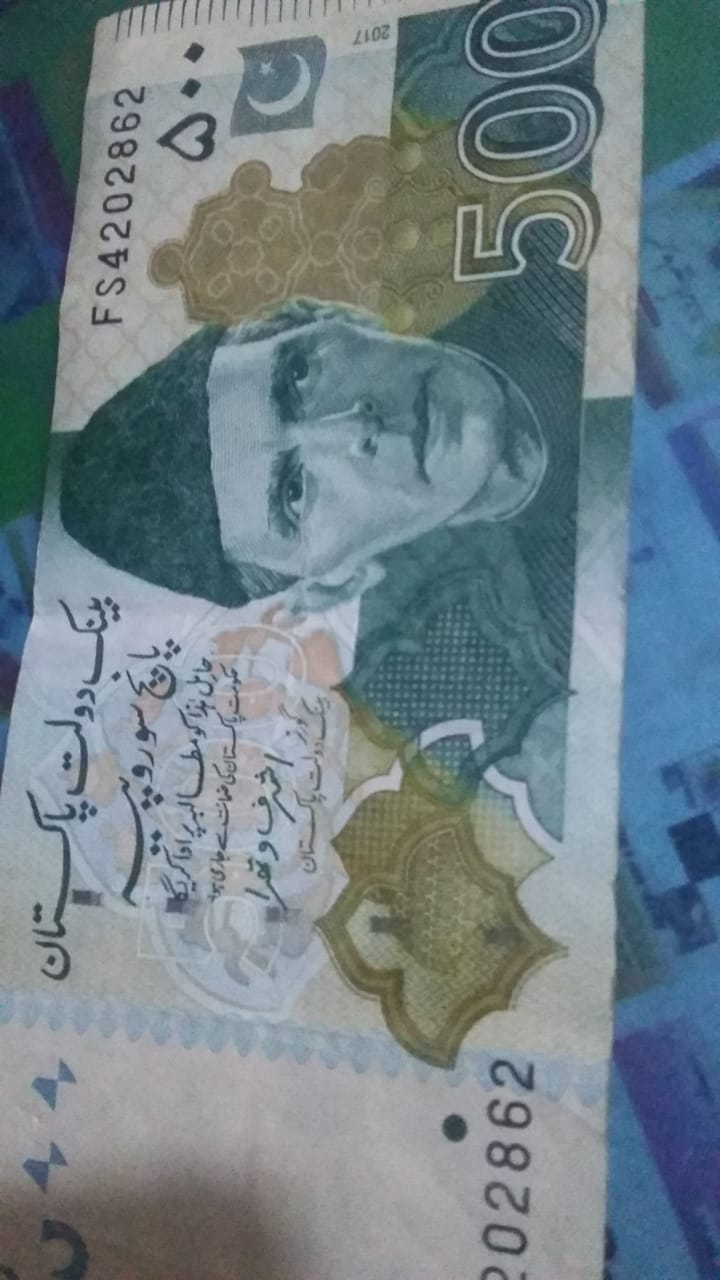500 rupee: (20, 11, 638, 1269)
